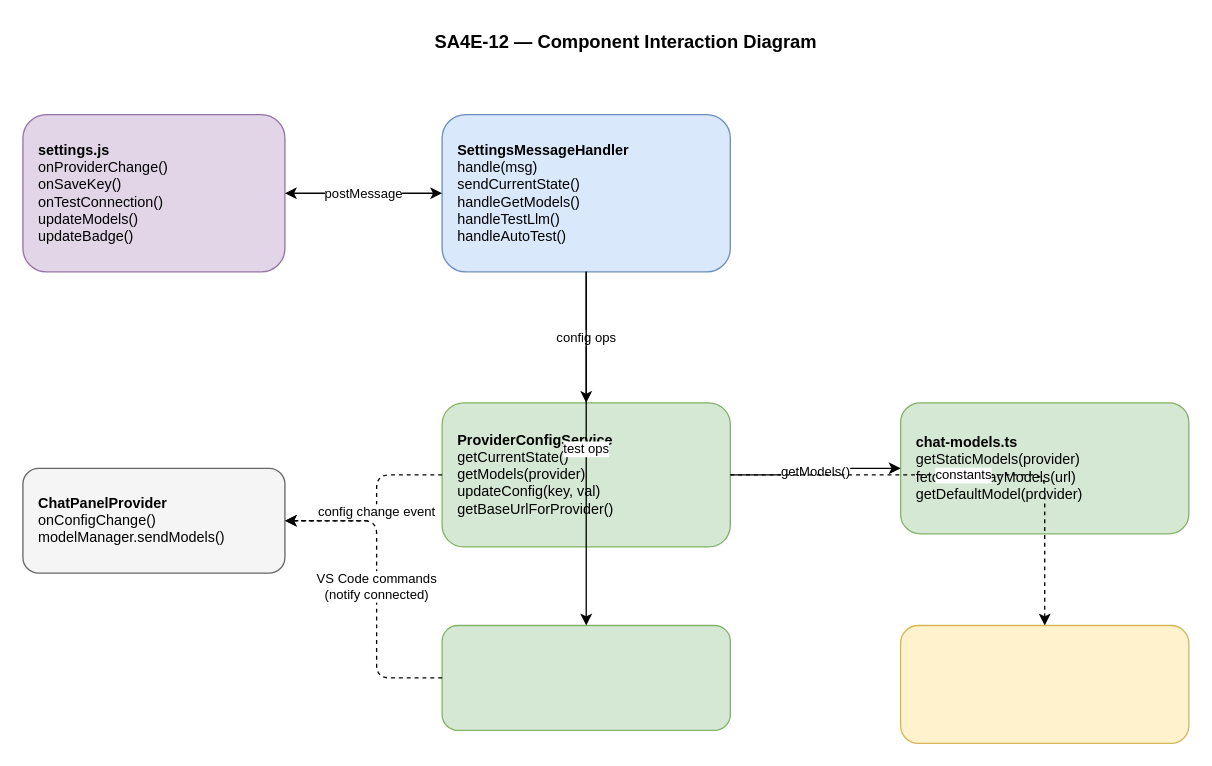
The diagram is 1212 pixels wide and 766 high, and some of its shapes have lost their labels. The shapes that lost their labels are listed below. From the top down, each one's centre as x and y in pixels, then its label:
At (x=585, y=677): "LlmTestService testLlm(provider?, baseUrl?) autoTestAndNotify(provider)".
At (x=1044, y=683): "LlmProviderConfig SECRET_KEYS PROVIDER_BASE_URL_DEFAULTS PROVIDER_BASE_URL_KEYS".
